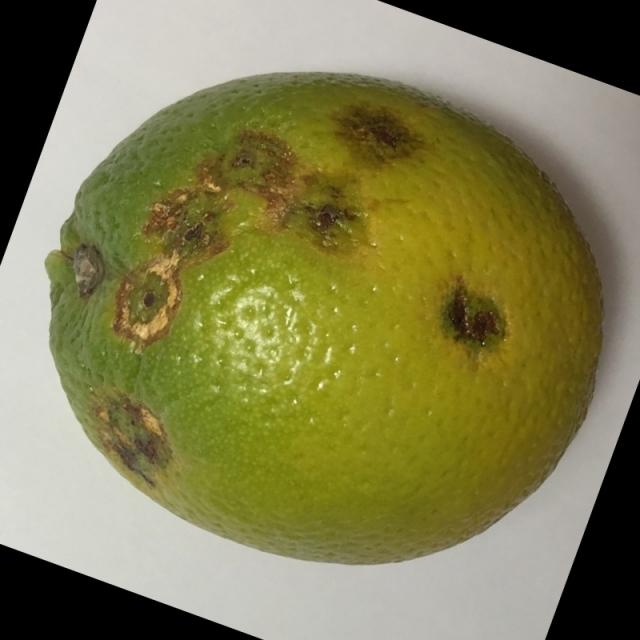canker: (42, 72, 628, 589)
